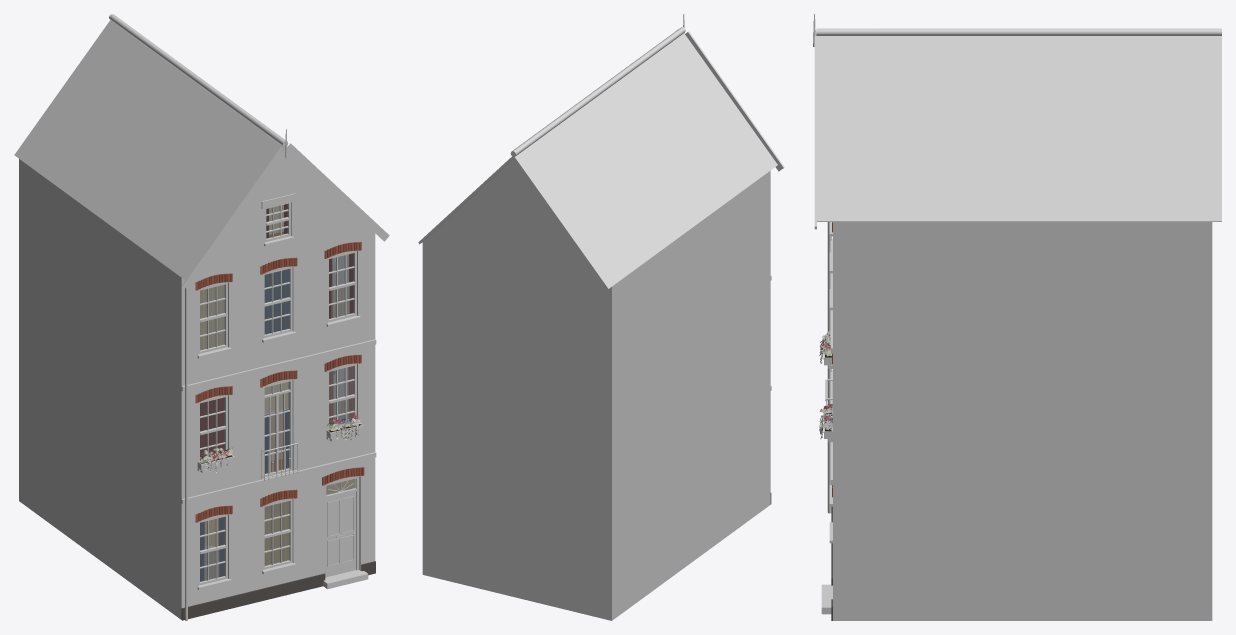
The model's file is StraightEnd_Street1.glb.
3 views of the same model, side by side, from view 1: azimuth 30°, elevation 25°; view 2: azimuth 150°, elevation 25°; view 3: azimuth 270°, elevation 25° (orthographic). The views are drawn at different scales.
Parts seen in each view (by area): view 1: StraightEnd_Street1; view 2: StraightEnd_Street1; view 3: StraightEnd_Street1.
Part boxes in pixels (box(x1,y1,x2,y2)): StraightEnd_Street1: box(14, 14, 389, 620); StraightEnd_Street1: box(418, 14, 784, 620); StraightEnd_Street1: box(813, 14, 1221, 620).
Size of what is drawn, in the model's own units: 5.88 by 12.83 by 8.62.
